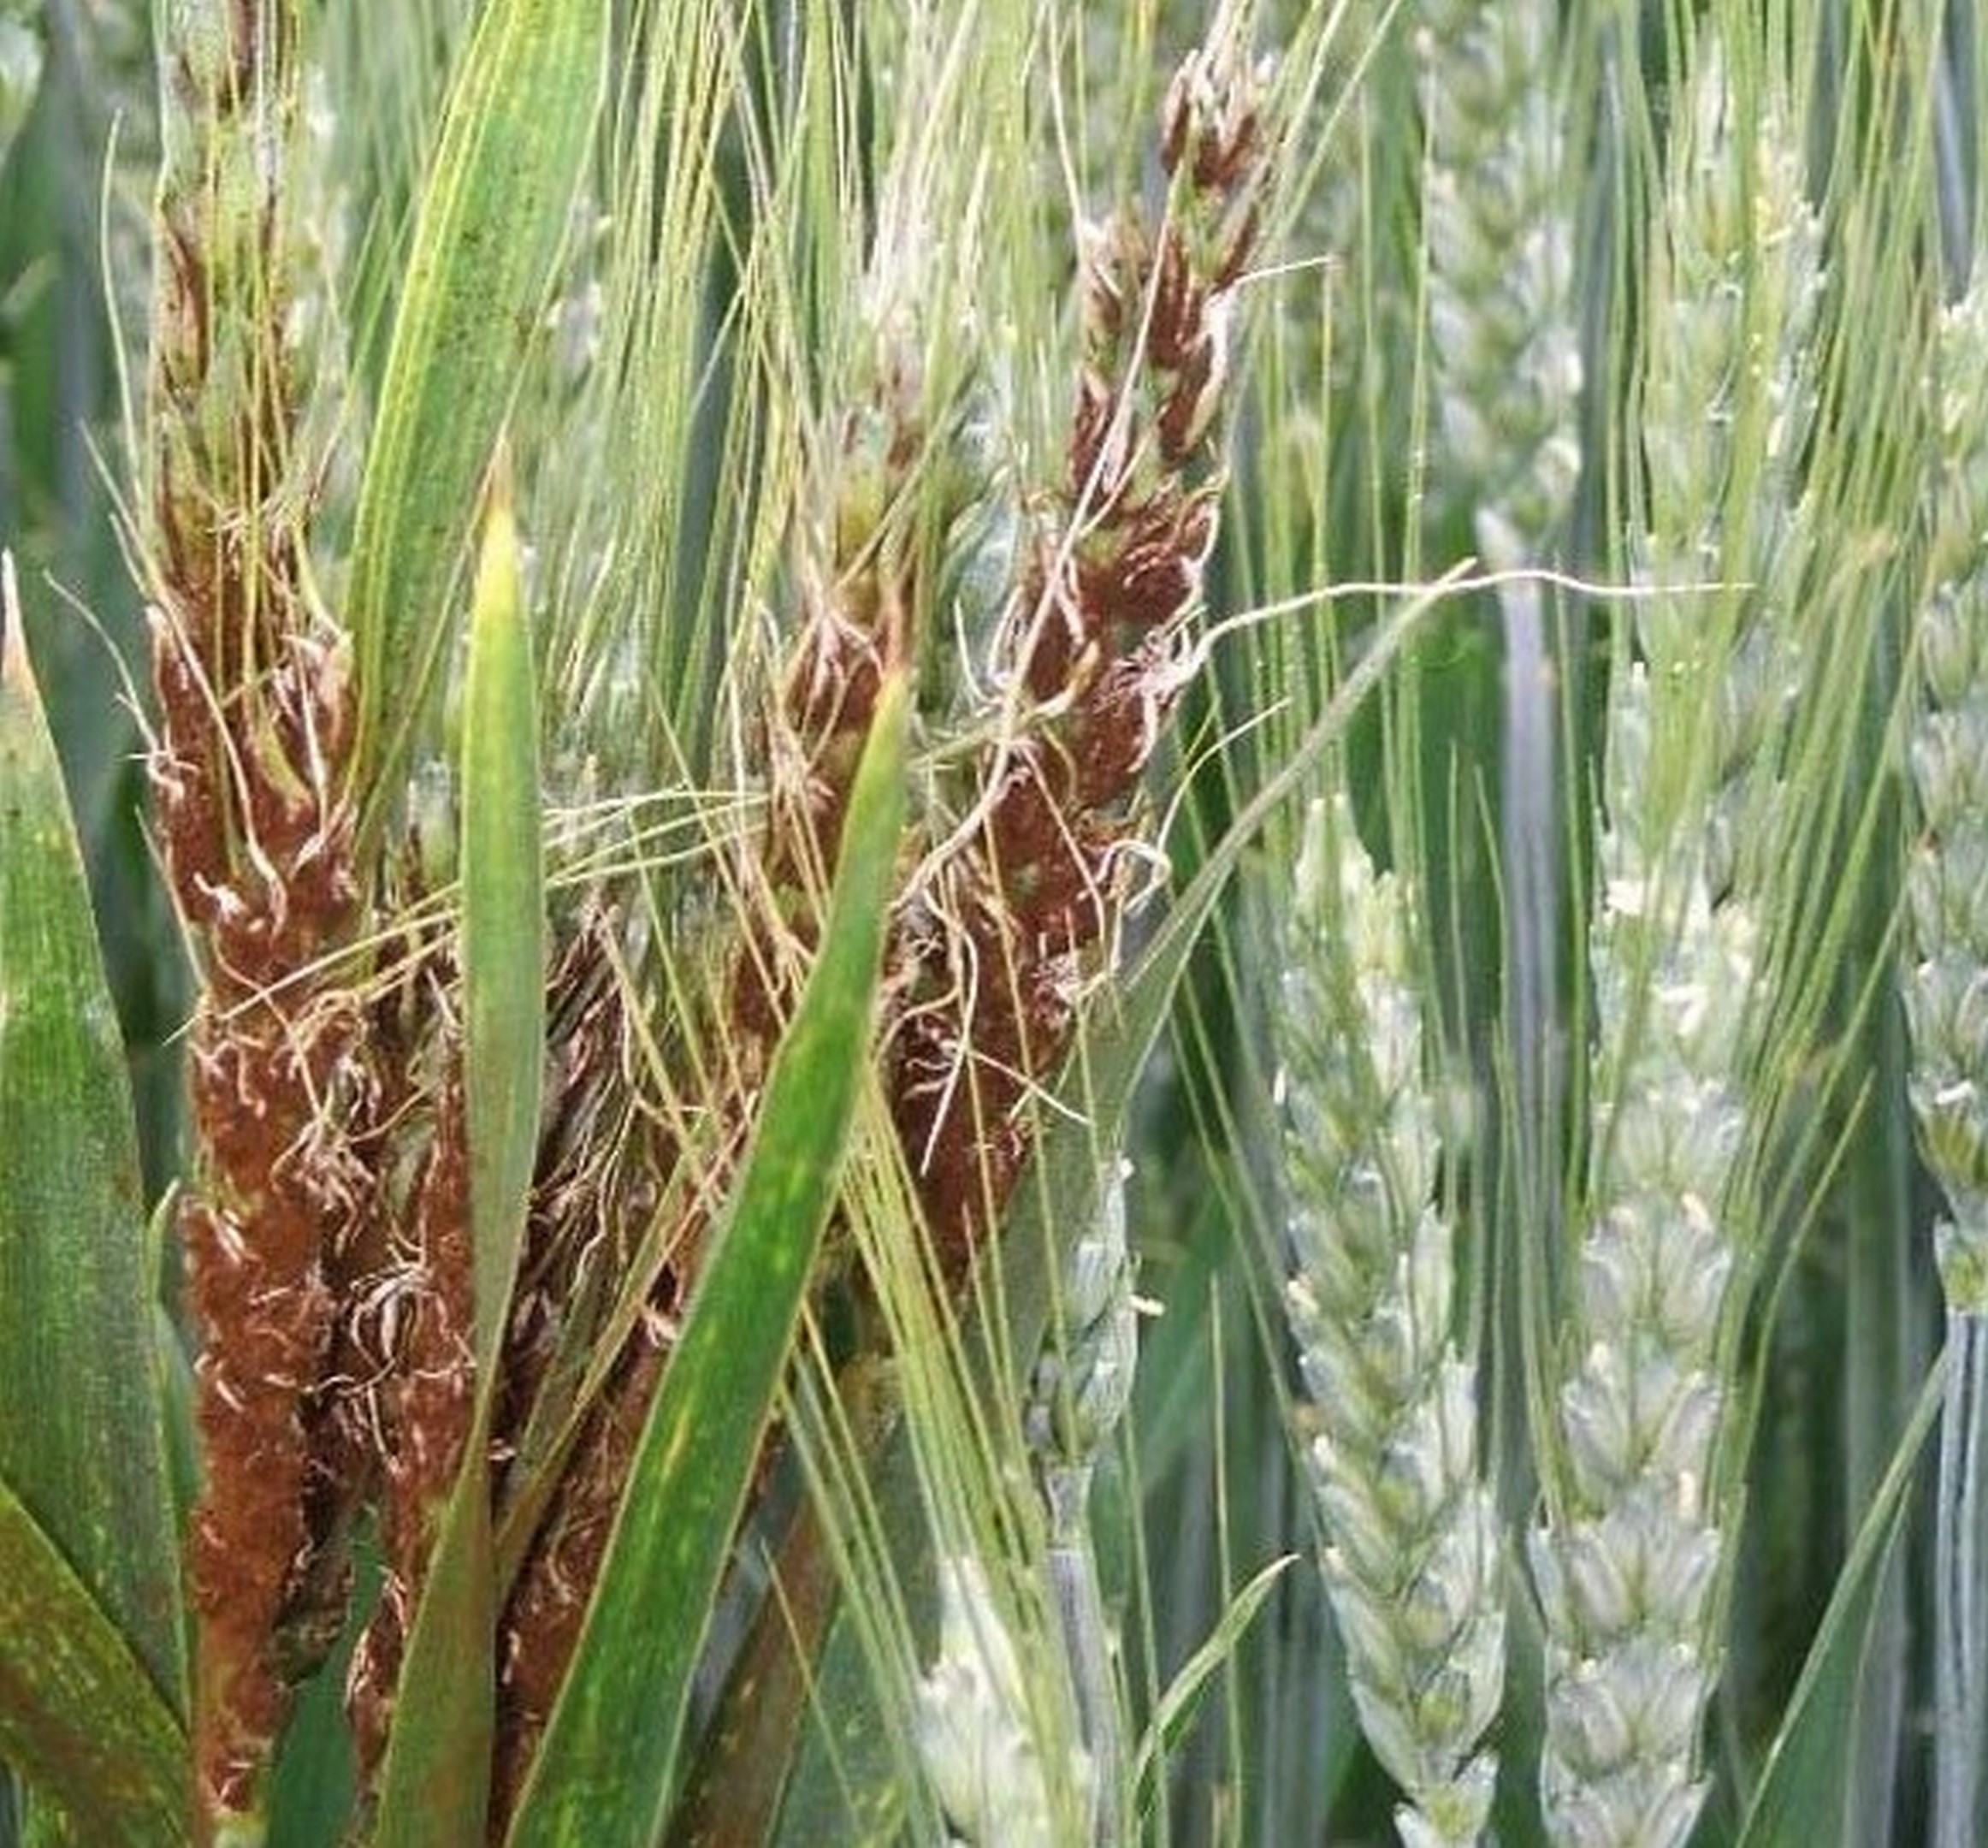Wheat Loose Smut: (116, 577, 1122, 1714)
